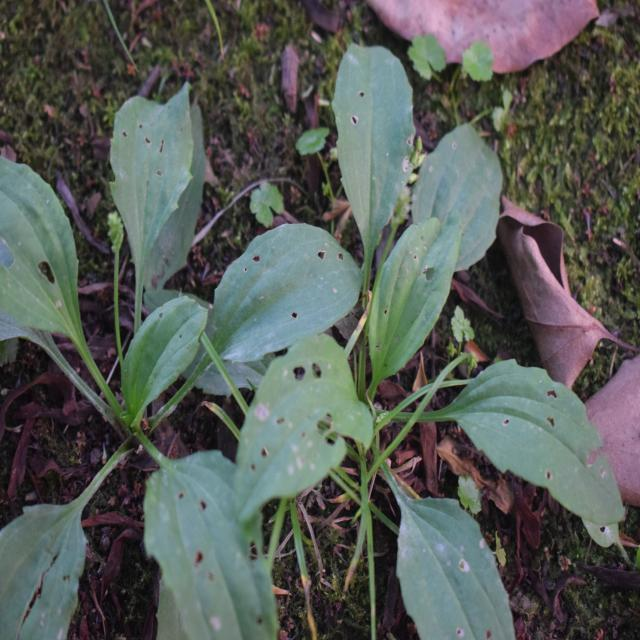plantain: (261, 34, 608, 612), (0, 110, 293, 613)
